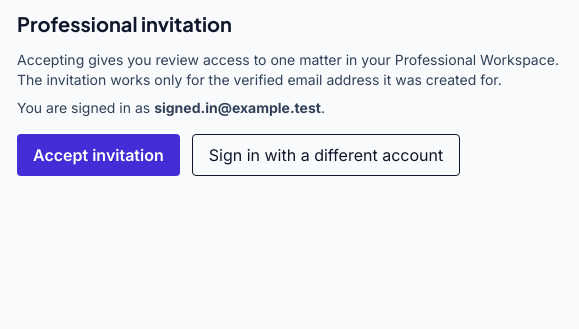
Stage 10 slice 8: AcceptInvitation › refusal 410 shows ONE neutral message and never shows invitation metadata, even if a body carried it
This screenshot has width=579, height=329.
Step 1. Click the button "Accept invitation" → (98, 155), box [17,134,180,176]
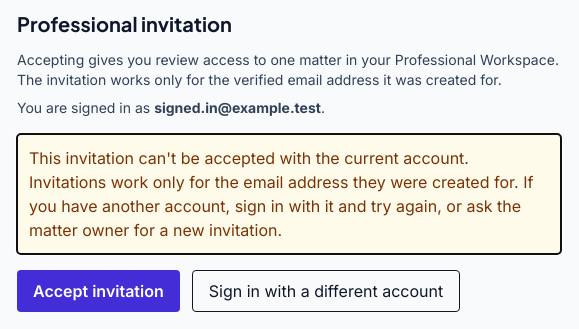
Expected: the message shows "This invitation can't be accepted with the current account. Invitations work only for the email address they were created for. If you have another account, sign", [29,148,533,240]
